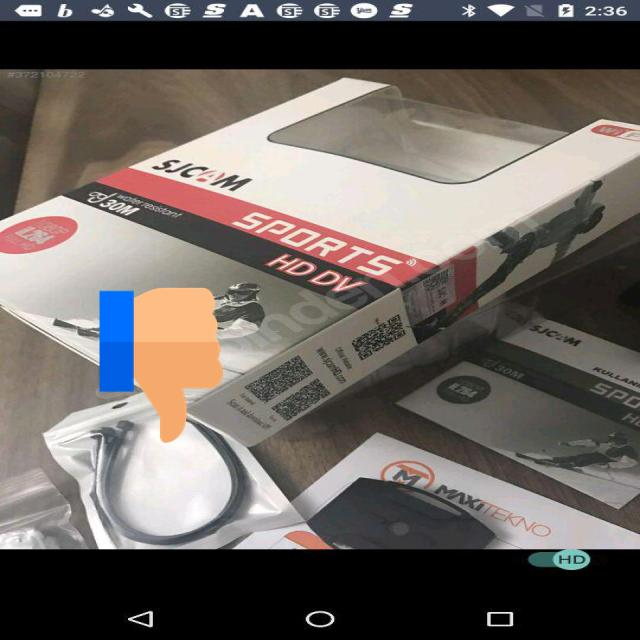obstruction: (99, 284, 223, 447)
